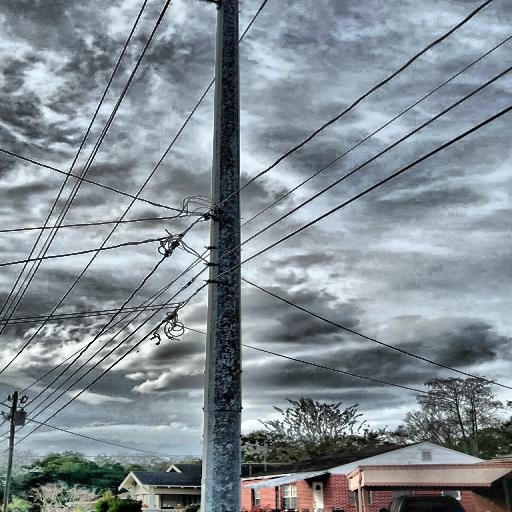pole: (192, 0, 253, 512)
